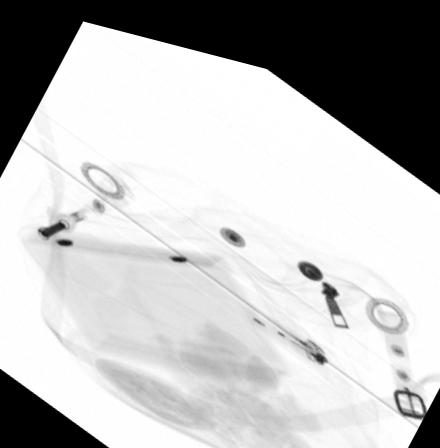Lighter: (243, 287, 329, 350)
